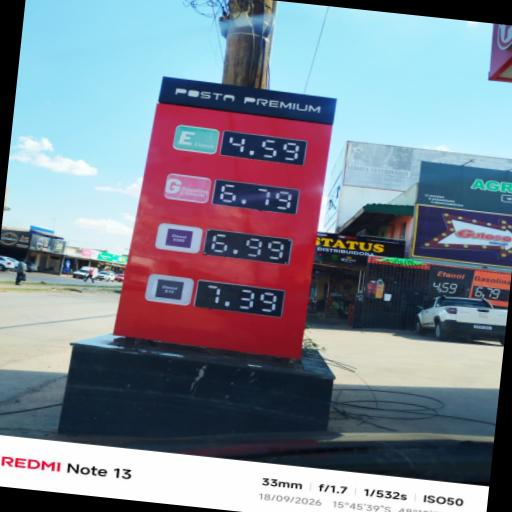ETANOL: (176, 126, 216, 151)
GASOLINA C: (164, 174, 211, 202)
S10: (150, 276, 193, 303)
S500: (162, 222, 199, 251)
placa: (122, 77, 334, 356)
preco: (197, 281, 286, 317), (213, 179, 299, 216), (204, 230, 290, 263), (223, 131, 306, 165)
